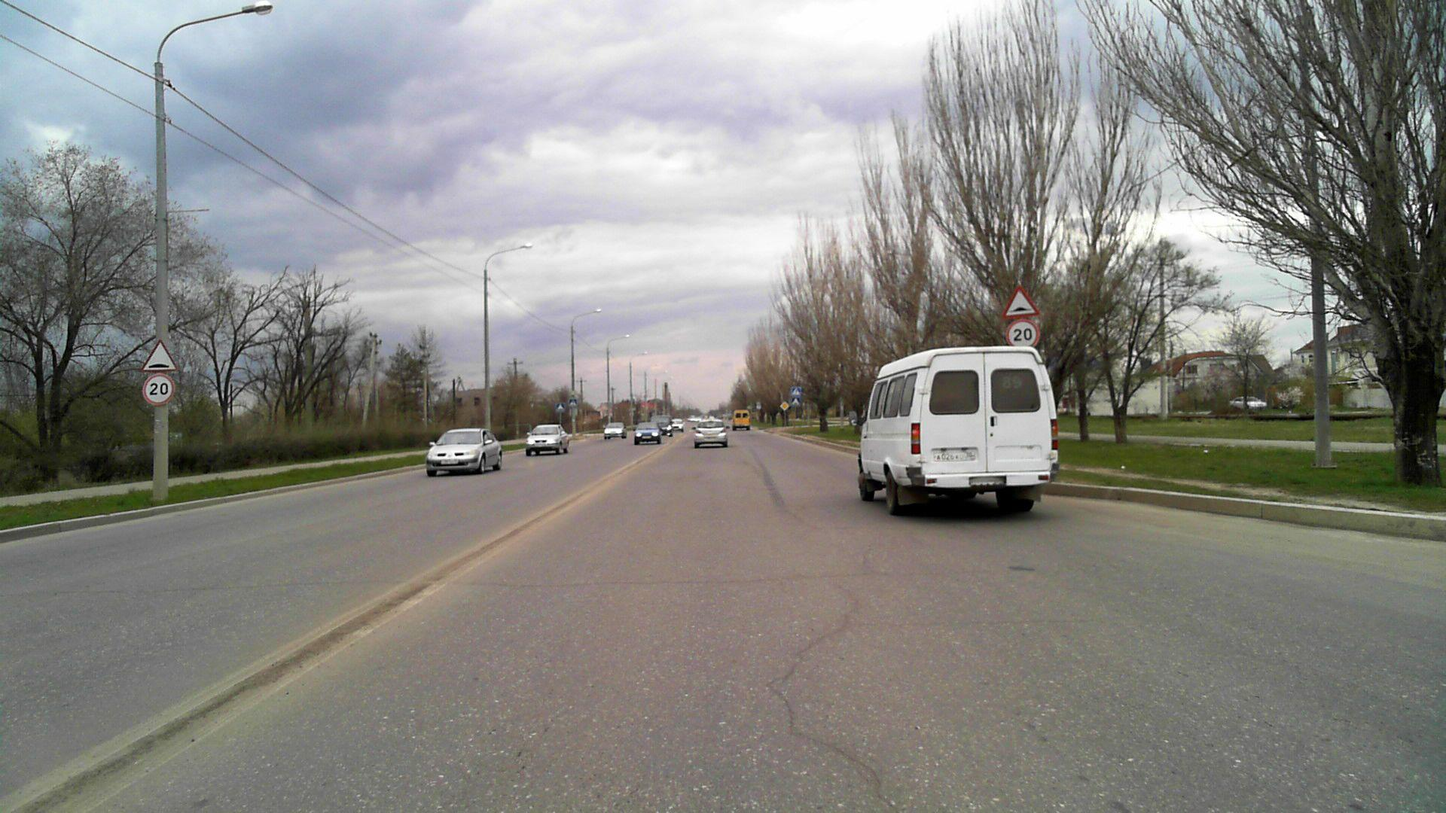road_sign: (138, 337, 180, 373), (1001, 285, 1044, 319), (143, 372, 174, 404), (1007, 319, 1040, 347)
